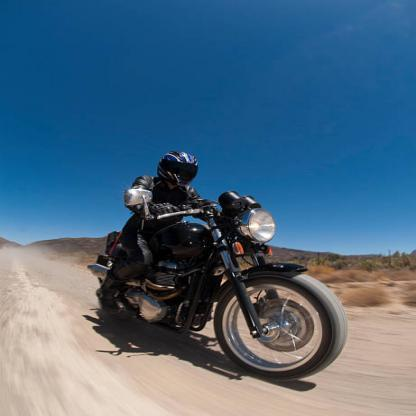Motorcycle: (94, 197, 353, 384)
